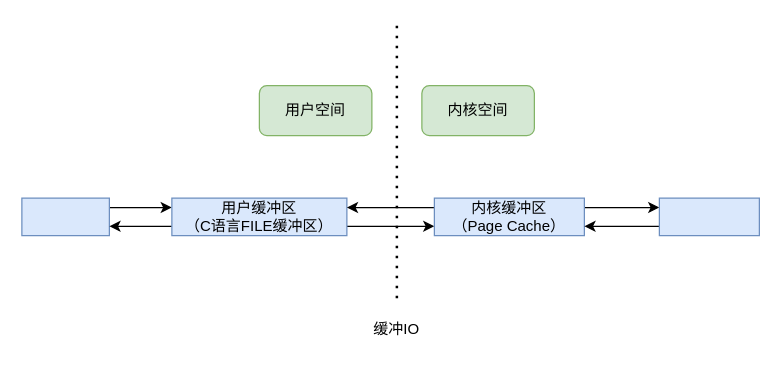
Image size: 781x369. Some labels were removed from this diagram. Here are the shapes that lost their labels. From the top down, the box of each, then its label:
(21, 197, 109, 236): 应用程序
(658, 197, 759, 236): 磁盘
